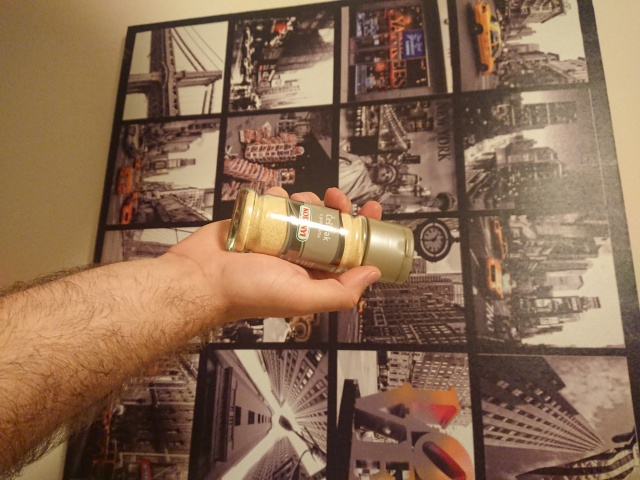Kotanyi Garlic Granules 70g: (221, 185, 416, 288)
